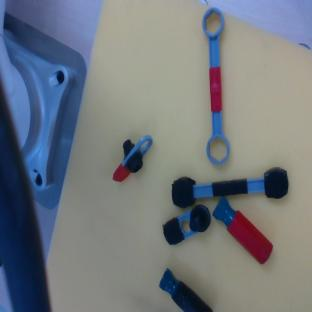part_1_bad: (159, 202, 215, 247)
part_1_good: (108, 127, 155, 188)
part_2_bad: (154, 267, 214, 312)
part_2_good: (208, 195, 278, 265)
part_3_bad: (170, 166, 289, 209)
part_3_good: (200, 7, 230, 165)
